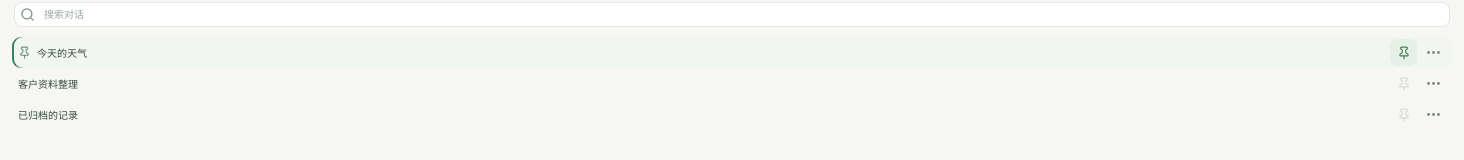
Test: ConversationHistoryList › supports search and shows legacy archived chats without an archive control
Step 1. Type "客户" into the field labelled "搜索对话" → (743, 14), box left=42, top=8, right=1444, bottom=21
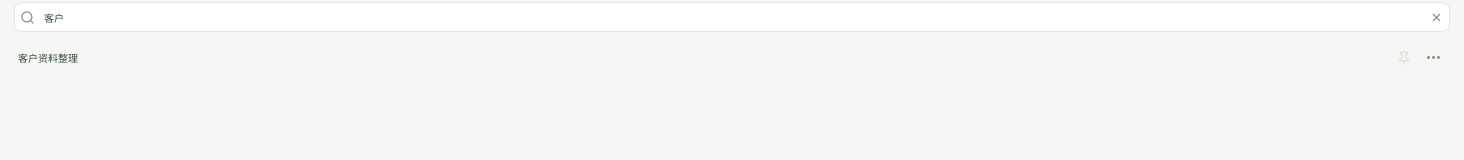
expect the button "今天的天气" is gone: met
expect the button "已归档" is gone: met
expect the button named "清除搜索" is shown: met
Step 2. Click the button named "清除搜索" → (1434, 17), box left=1424, top=7, right=1444, bottom=27
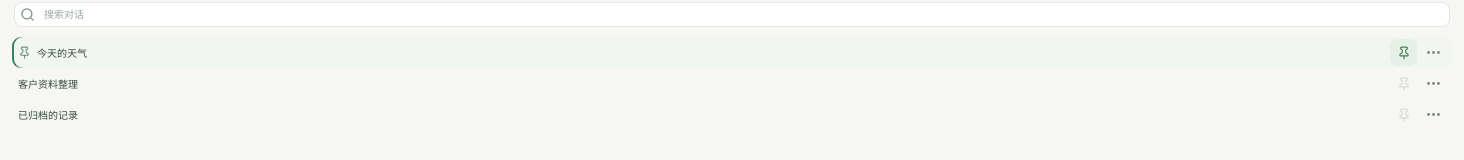
expect the button "已归档的记录" is shown: met, box left=12, top=101, right=1390, bottom=128
